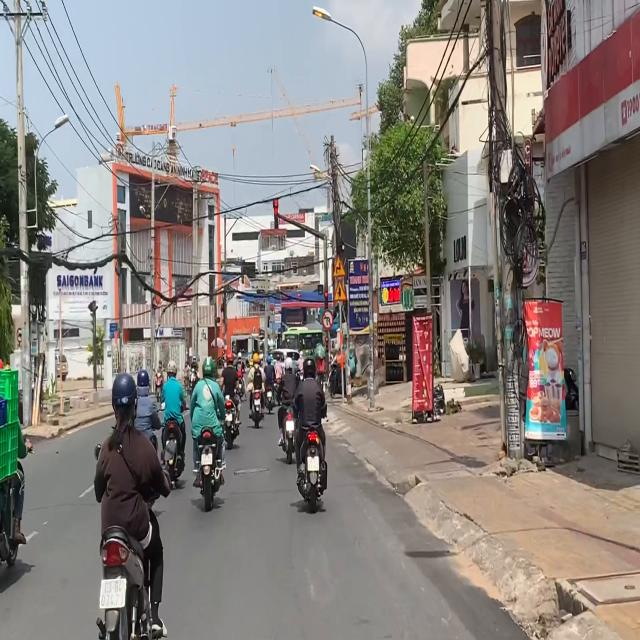Cam con lai: (322, 308, 334, 330)
Giao voi duong khong uu tien: (333, 279, 348, 302)
Nguy hiem: (332, 254, 346, 278)
